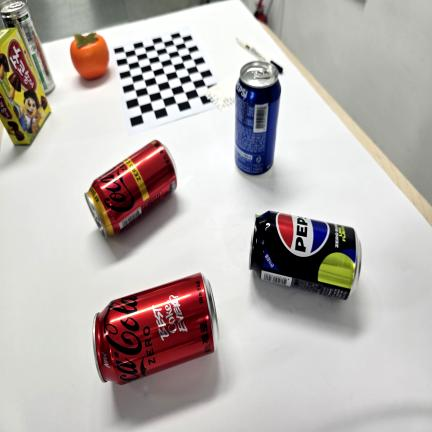can_coke_decaf: (85, 140, 177, 237)
can_coke_zero: (93, 272, 218, 385)
can_pepsi: (235, 61, 281, 175)
can_pepsi_zero: (249, 211, 361, 300)
